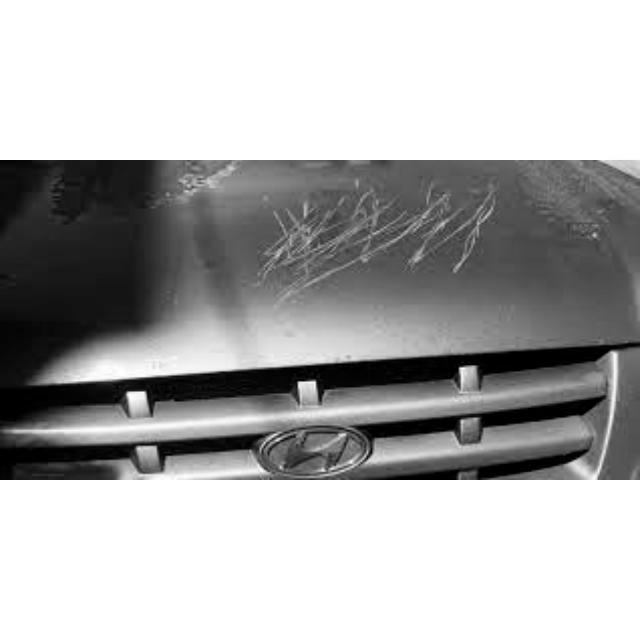bonnet-dent: (93, 161, 600, 414)
